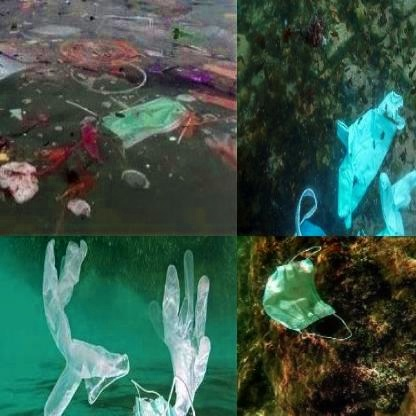Mask: (263, 243, 353, 341), (100, 96, 190, 149), (277, 187, 331, 235), (133, 376, 197, 415)
glove: (40, 236, 132, 415), (335, 90, 410, 226), (149, 248, 212, 396), (354, 158, 416, 235)
